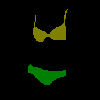mutande: (27, 63, 66, 85)
reggiseno: (33, 8, 69, 42)
